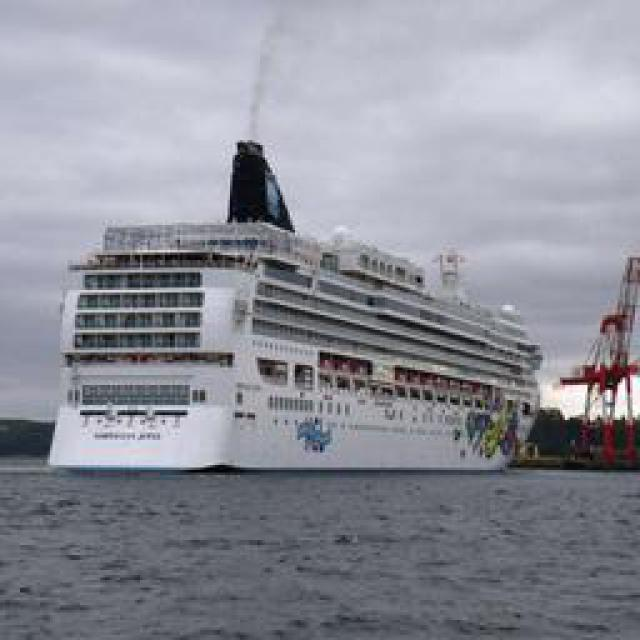Ship: (44, 133, 554, 468)
